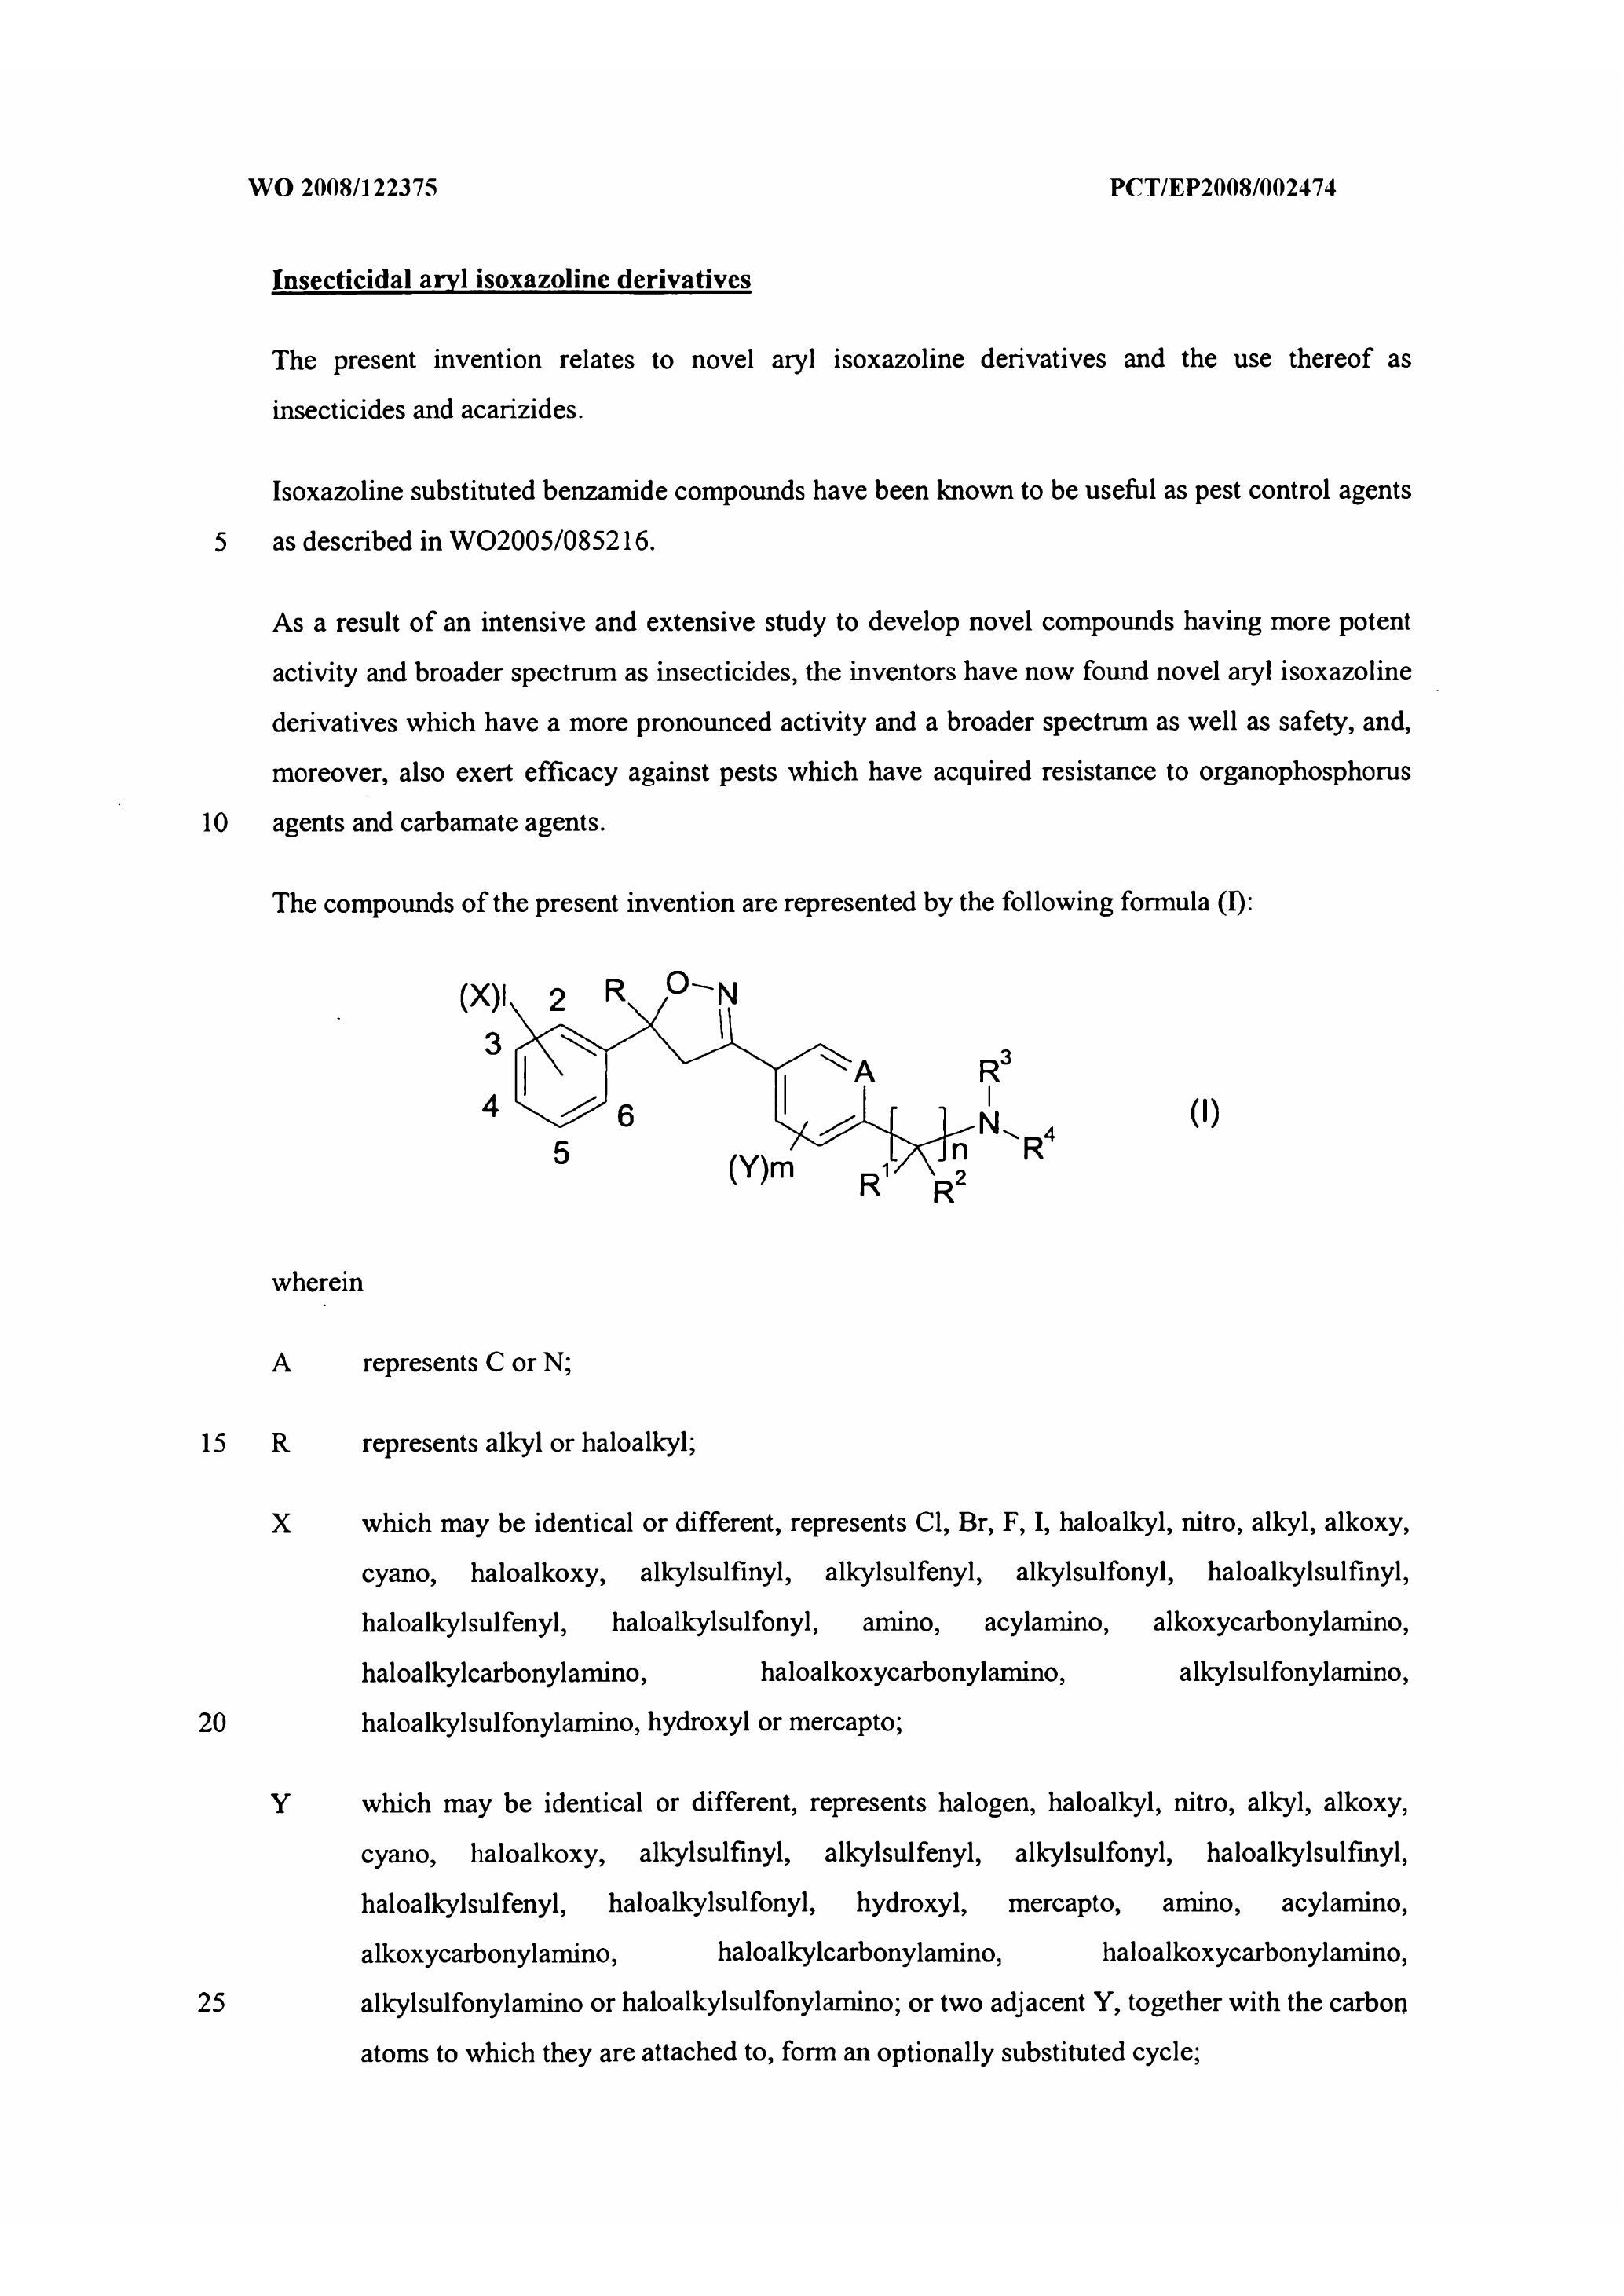markush-structures: (330, 926, 1114, 1215)
